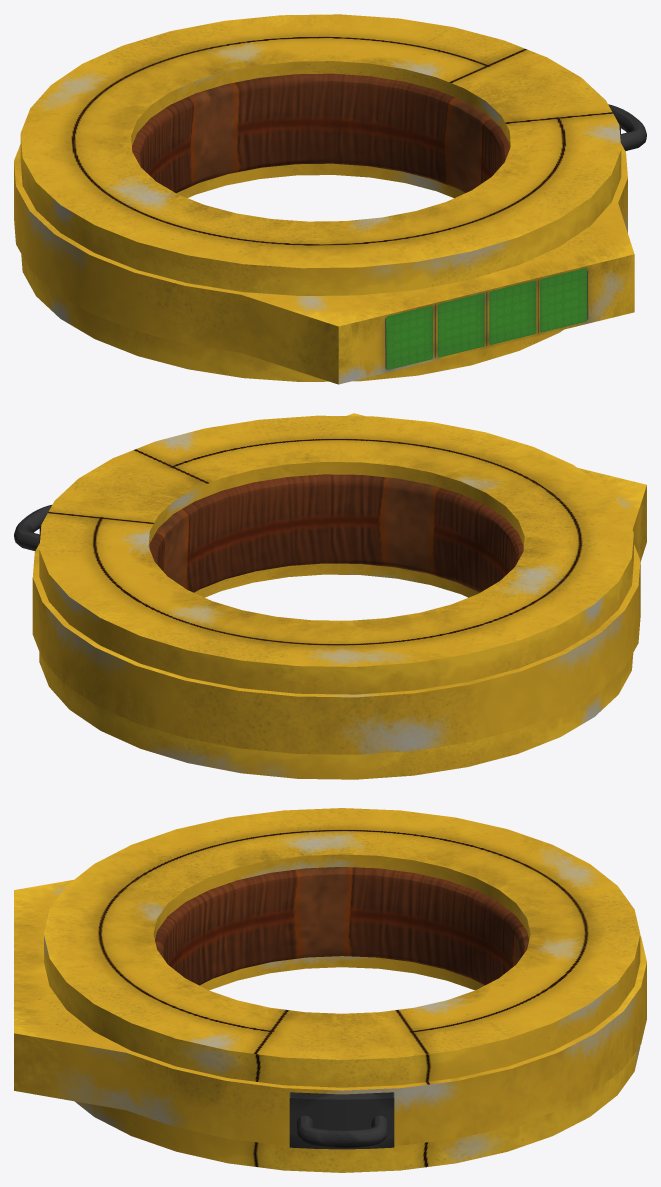
File: BraceleteMagnético.fbx
3 views of the same model, one above another, from view 1: azimuth 30°, elevation 25°; view 2: azimuth 150°, elevation 25°; view 3: azimuth 270°, elevation 25° (orthographic).
Visible parts, largest first — view 1: Cylinder; view 2: Cylinder; view 3: Cylinder.
Part boxes in pixels (<box>): Cylinder: <box>14,14,646,384</box>; Cylinder: <box>14,413,646,779</box>; Cylinder: <box>14,808,646,1172</box>.
Size of the model in its own units: 223 by 41.77 by 212.
Materials: 1 (1 with a texture image).
